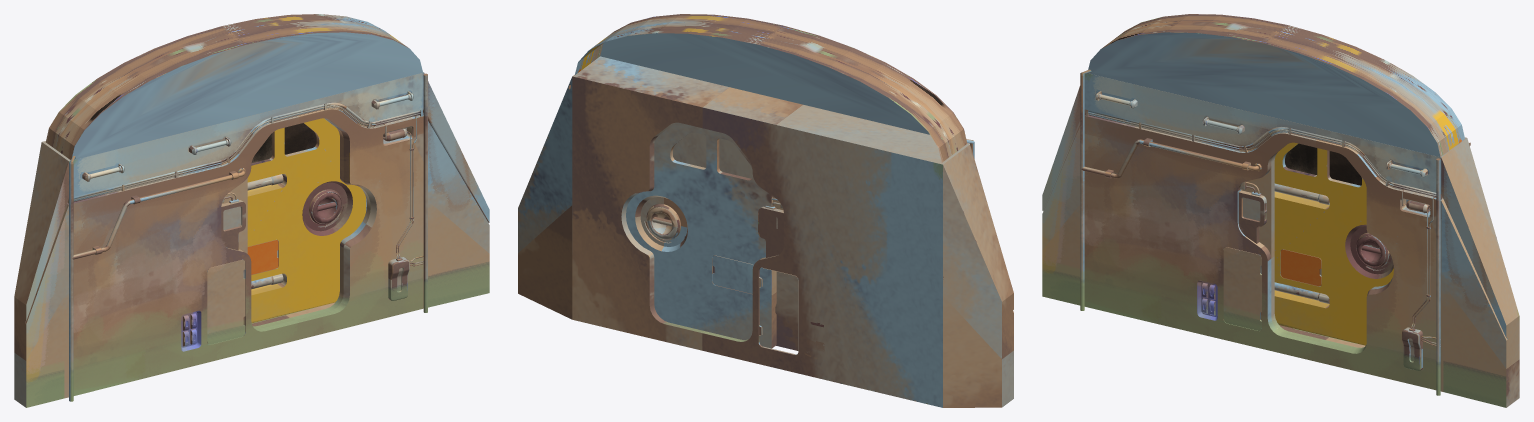
The model's file is LO_level_door.glb.
3 views of the same model, side by side, from view 1: azimuth 30°, elevation 25°; view 2: azimuth 150°, elevation 25°; view 3: azimuth 330°, elevation 25° (orthographic). The views are drawn at different scales.
Visible parts, largest first — view 1: door_wall.001, door.001; view 2: door_wall.001, door.001; view 3: door_wall.001, door.001.
Part boxes in pixels (x1=…): door_wall.001: x1=14, y1=14, x2=489, y2=407; door.001: x1=247, y1=118, x2=365, y2=323; door_wall.001: x1=518, y1=14, x2=1013, y2=407; door.001: x1=626, y1=122, x2=776, y2=348; door_wall.001: x1=1042, y1=14, x2=1519, y2=407; door.001: x1=1274, y1=142, x2=1393, y2=345.
Bounding box in the file's own units: 4.82 × 3.07 × 0.6546.
1 material, 1 textured.
